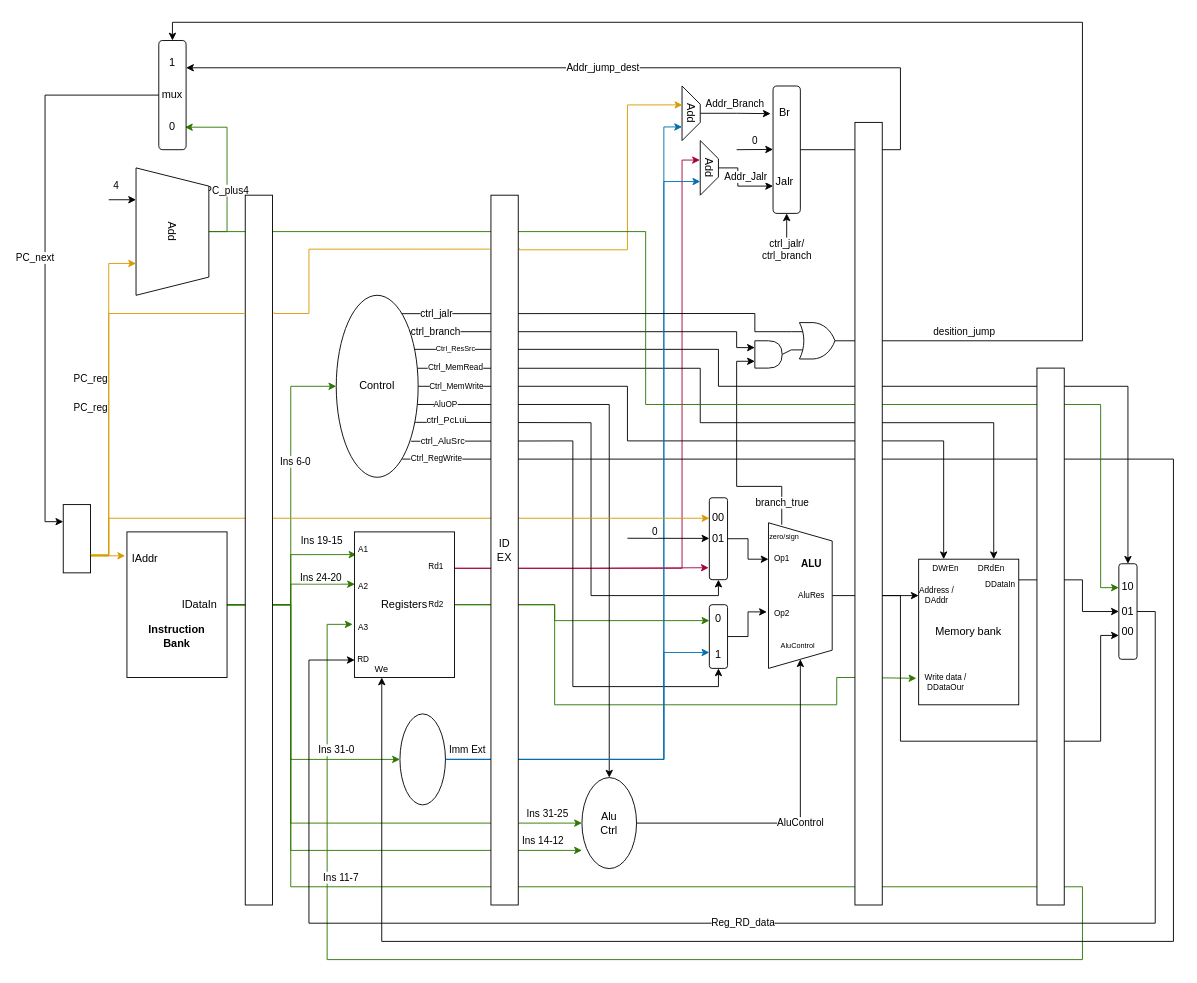
This 1197x983 diagram has some shape labels left out. The centre of each missing label's shape, as x and y in pixels:
EX MEM: point (868, 513)
IF ID: point (258, 549)
Imm Gen: point (422, 759)
MEM WB: point (1050, 636)
PC: point (76, 538)
